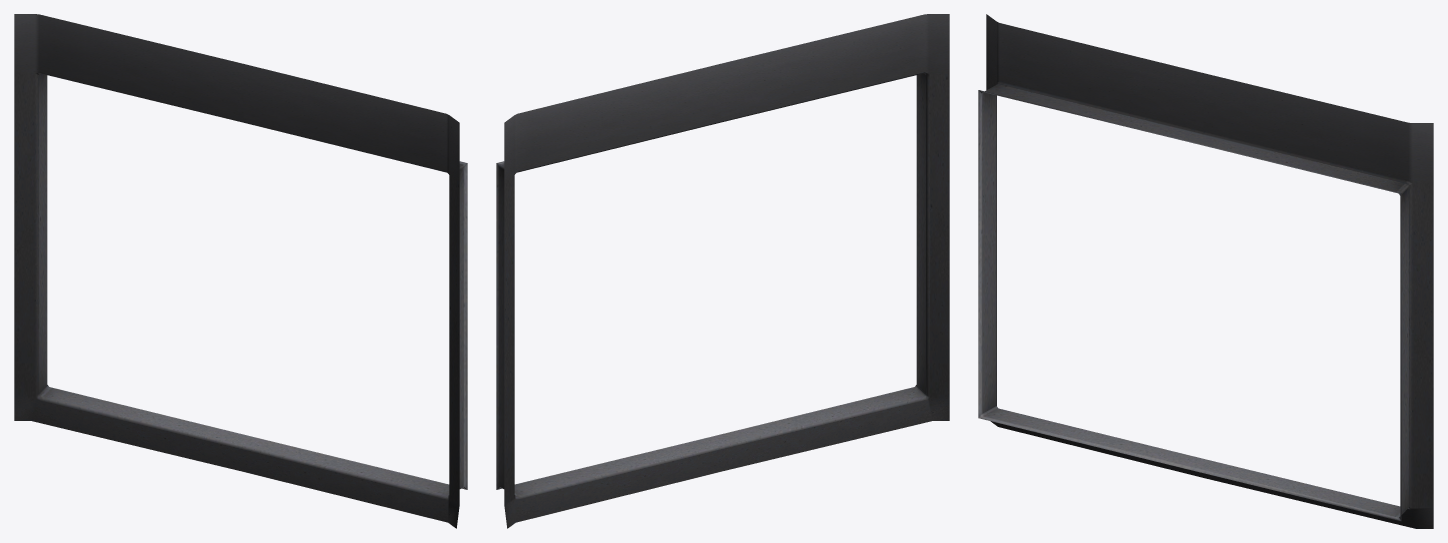
The model's file is wall03.FBX.
The picture shows the model from 3 angles, left to right: view 1: azimuth 90°, elevation 25°; view 2: azimuth 150°, elevation 25°; view 3: azimuth 270°, elevation 25°; orthographic projection.
Parts seen in each view (by area): view 1: wall03; view 2: wall03; view 3: wall03.
Boxes of the visible parts, x1,y1,x2,y2 form: wall03: (14,14,467,528); wall03: (496,14,949,528); wall03: (978,14,1433,528).
Size of the model in its own units: 144 by 226 by 229.
Materials: 1 (1 with a texture image).
